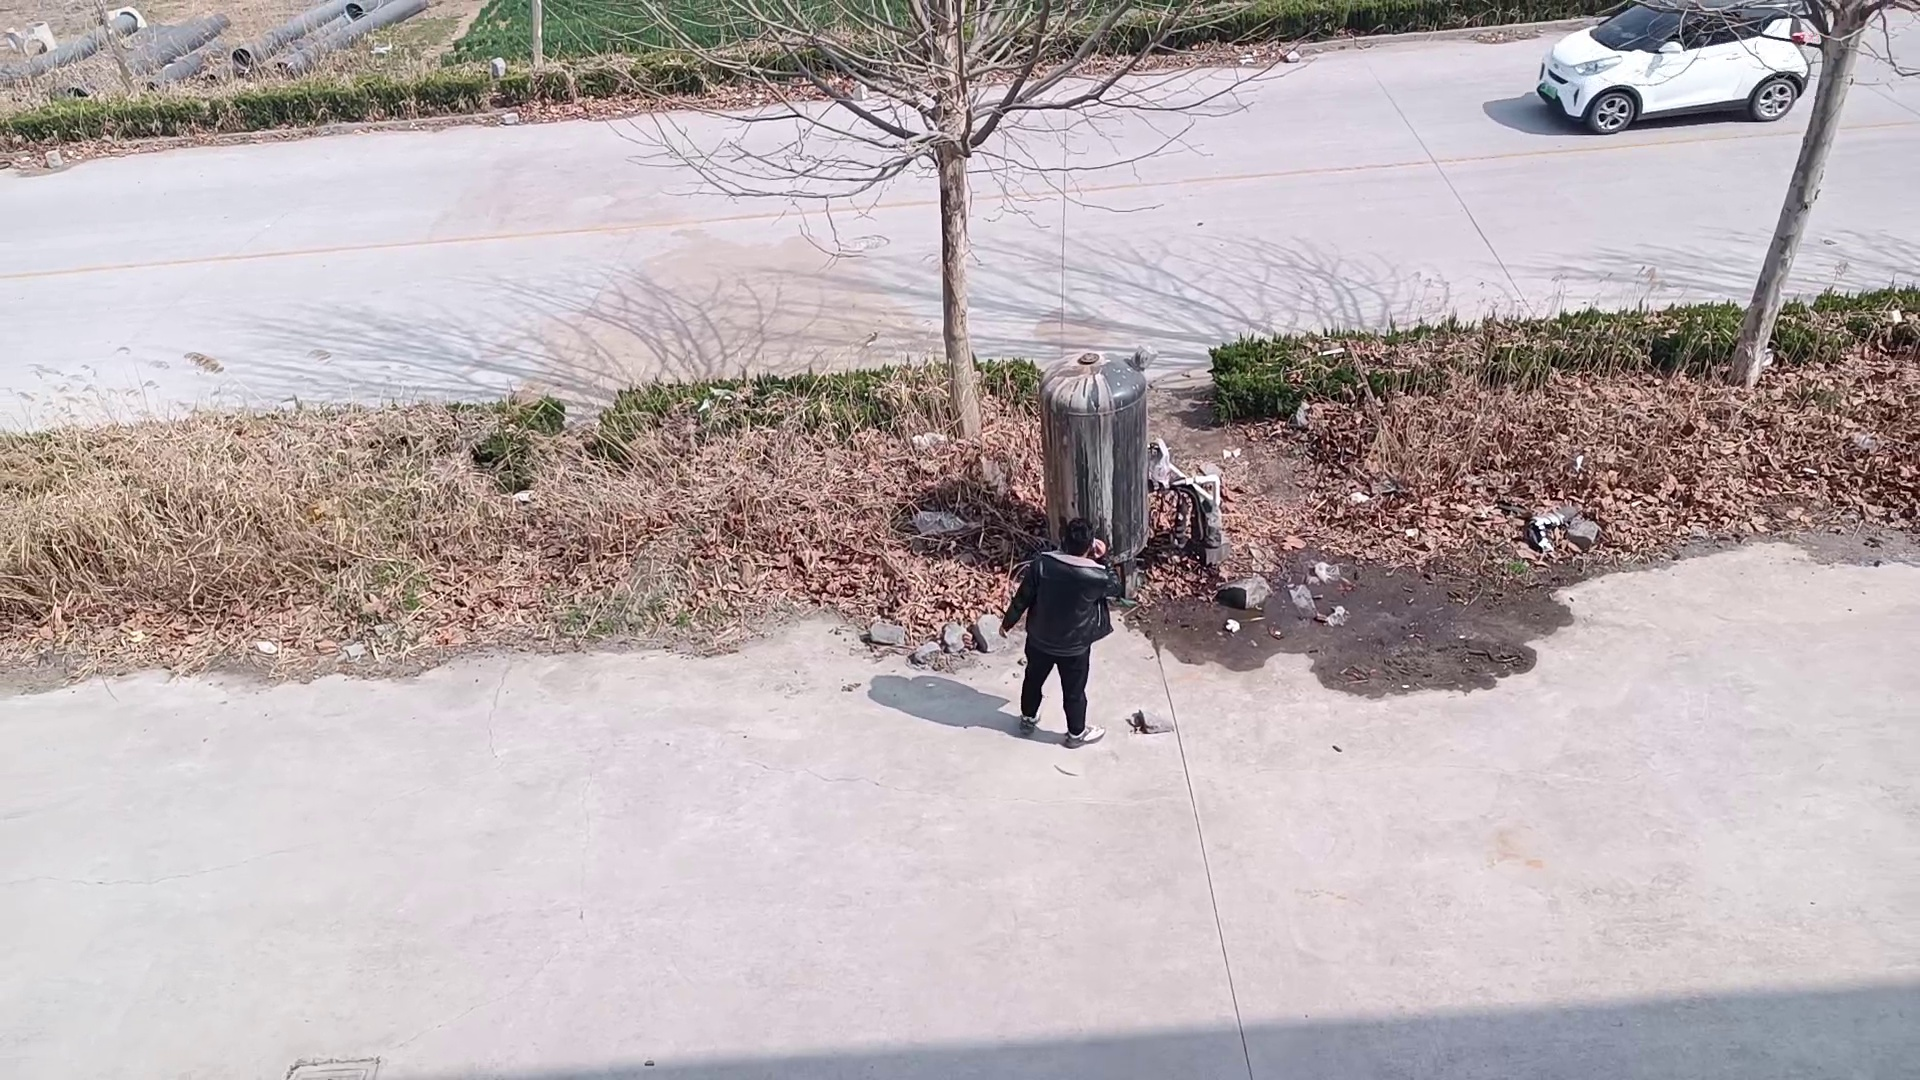phone: (1052, 518, 1106, 571)
